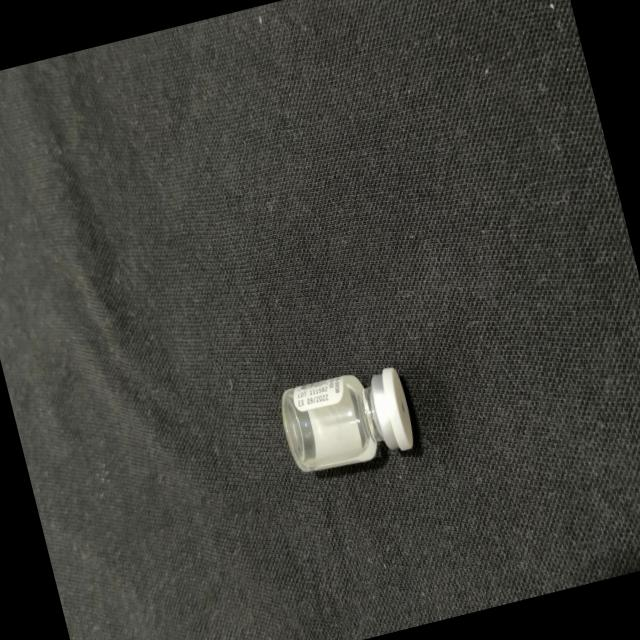fentanl_citrat: (276, 363, 416, 478)
